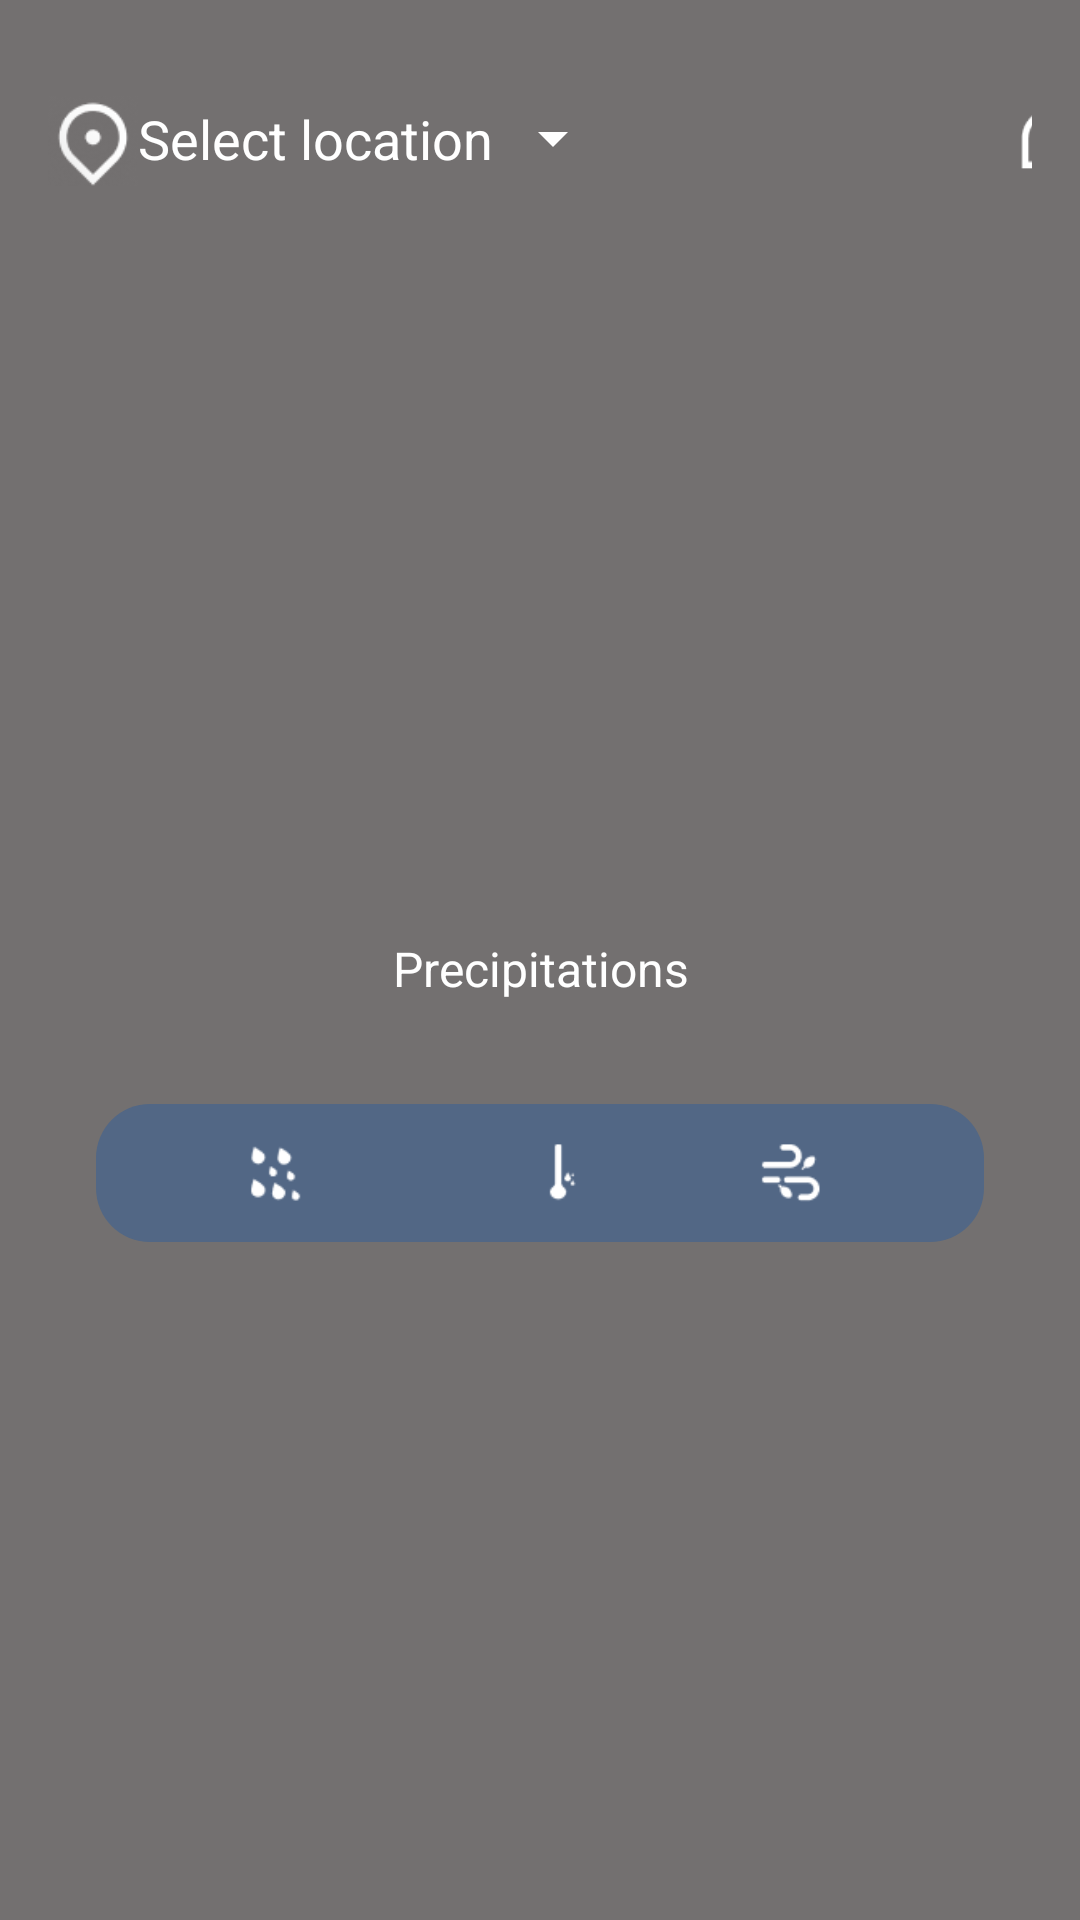

Point at icon controls on the screen. Image size 1080×1920, points as (x=x, y=y).
air humidity: (x=275, y=1174)
air temperature: (x=562, y=1172)
wind speed: (x=791, y=1172)
